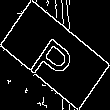P_NE: (28, 24, 82, 86)
